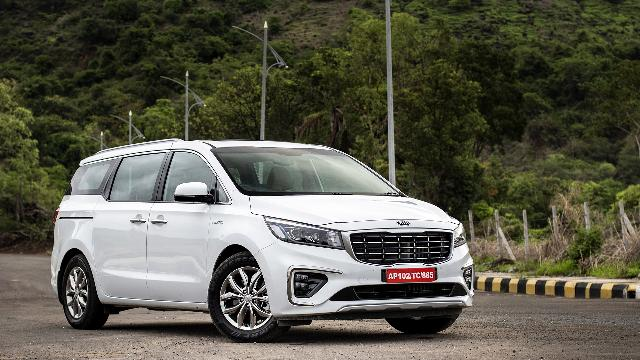kia: (51, 138, 476, 342)
